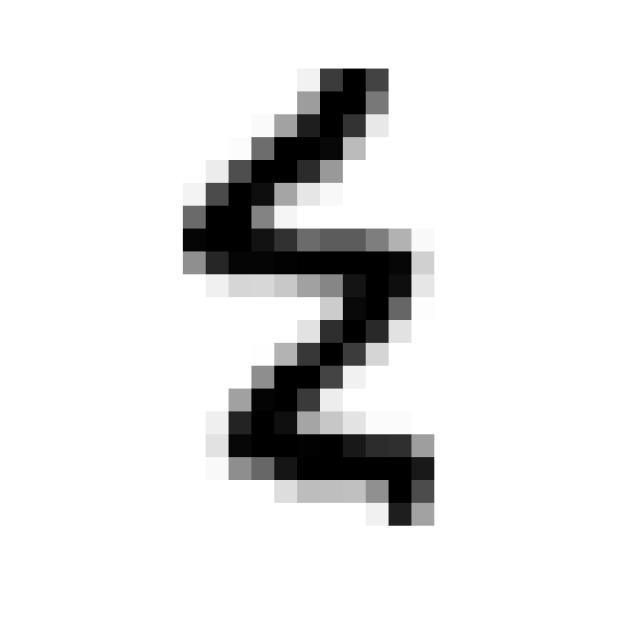4 -four-: (167, 44, 449, 552)
